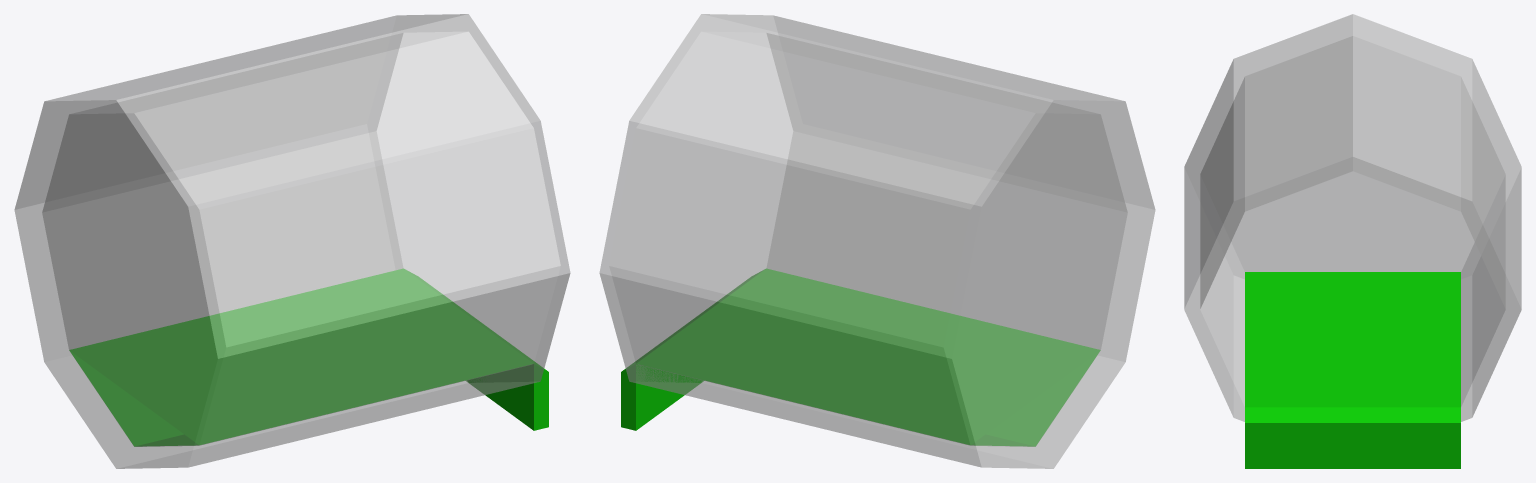
File: cuveVide.fbx
The picture shows the model from 3 angles, left to right: view 1: azimuth 30°, elevation 25°; view 2: azimuth 150°, elevation 25°; view 3: azimuth 270°, elevation 25°; orthographic projection. The views are drawn at different scales.
Parts seen in each view (by area): view 1: Cylinder, Cylinder.001; view 2: Cylinder, Cylinder.001; view 3: Cylinder, Cylinder.001.
Part boxes in pixels (left/top/right/bottom): Cylinder: left=14, top=14, right=570, bottom=468; Cylinder.001: left=69, top=268, right=548, bottom=446; Cylinder: left=599, top=14, right=1155, bottom=468; Cylinder.001: left=621, top=268, right=1100, bottom=446; Cylinder: left=1184, top=14, right=1521, bottom=421; Cylinder.001: left=1245, top=272, right=1460, bottom=468.
Bounding box in the file's own units: 208 × 200 × 200.
